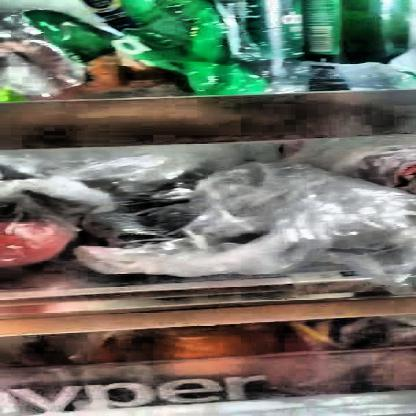mineral_water: (232, 0, 416, 63)
tomato: (0, 215, 74, 266)
